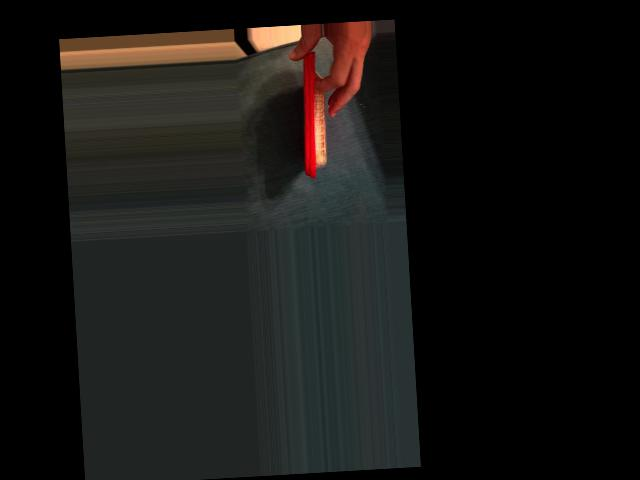cheese: (290, 48, 343, 181)
